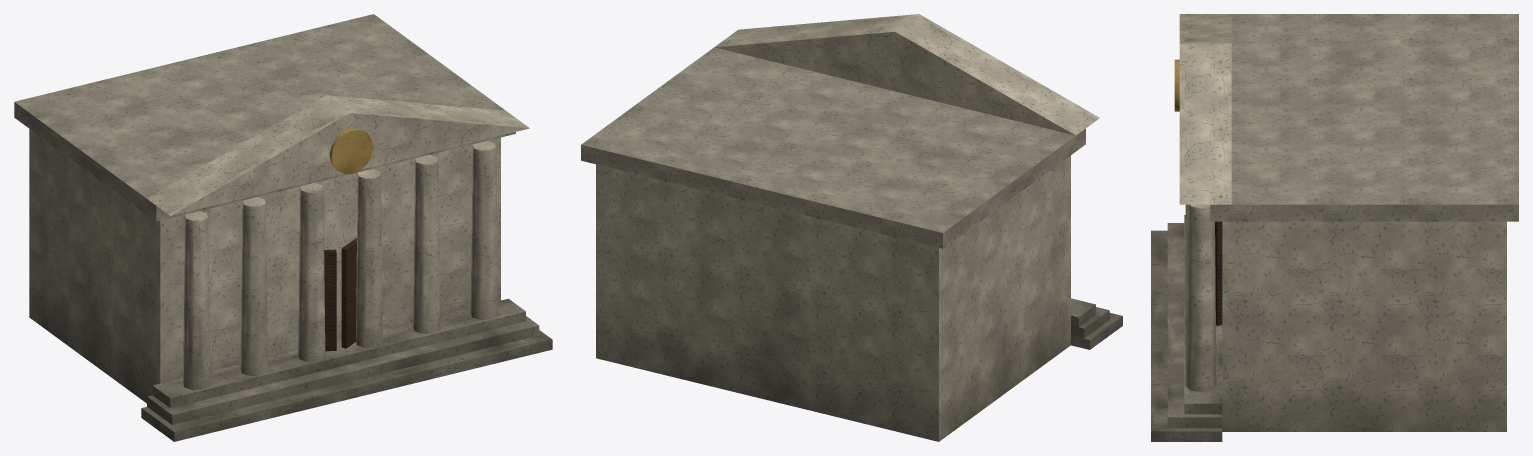
Rendered from bank.glb.
The picture shows the model from 3 angles, left to right: view 1: azimuth 30°, elevation 25°; view 2: azimuth 150°, elevation 25°; view 3: azimuth 270°, elevation 25°; orthographic projection. The views are drawn at different scales.
Visible parts, largest first — view 1: bank; view 2: bank; view 3: bank.
Part boxes in pixels (x1,y1,x2,y2): bank: (14,14,552,441); bank: (581,14,1122,441); bank: (1151,14,1518,441).
Size of the model in its own units: 20 by 13.8 by 15.5.
5 materials, 5 textured.
